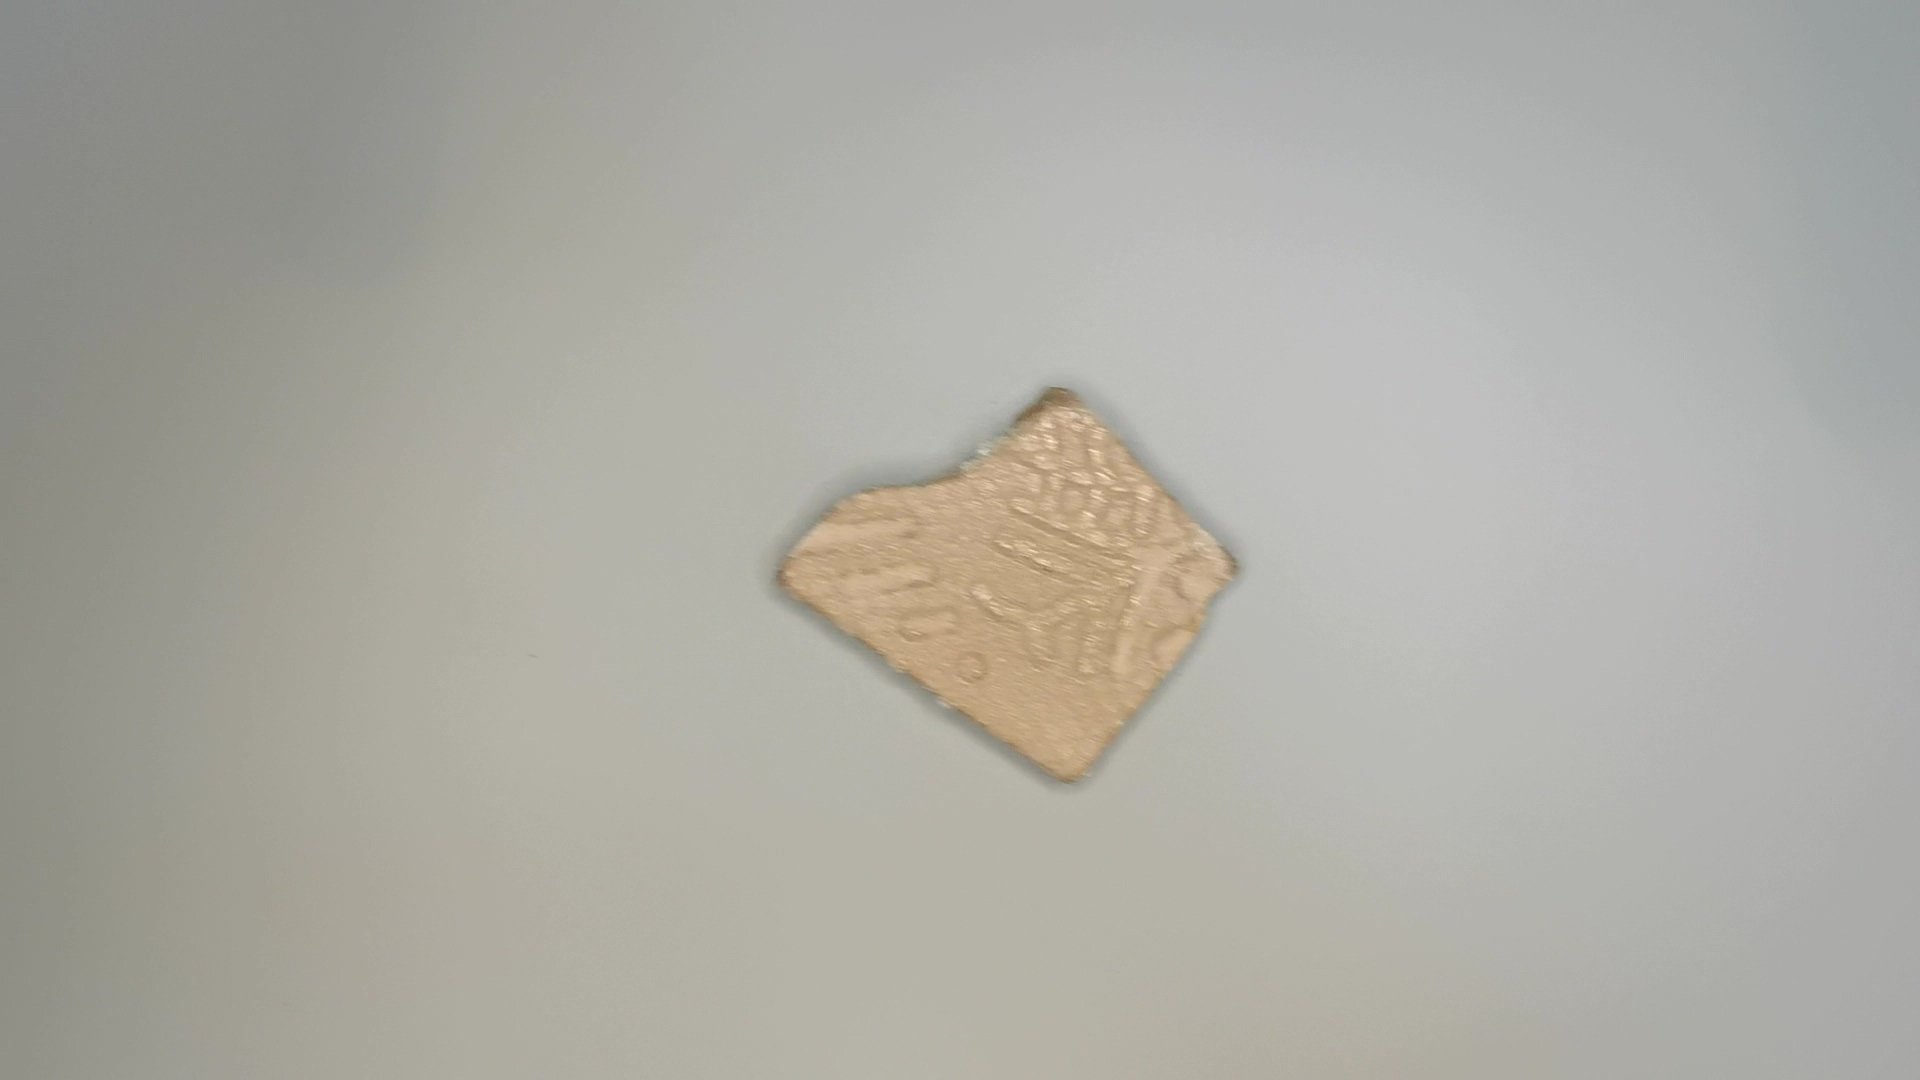ceramic: (767, 375, 1249, 796)
